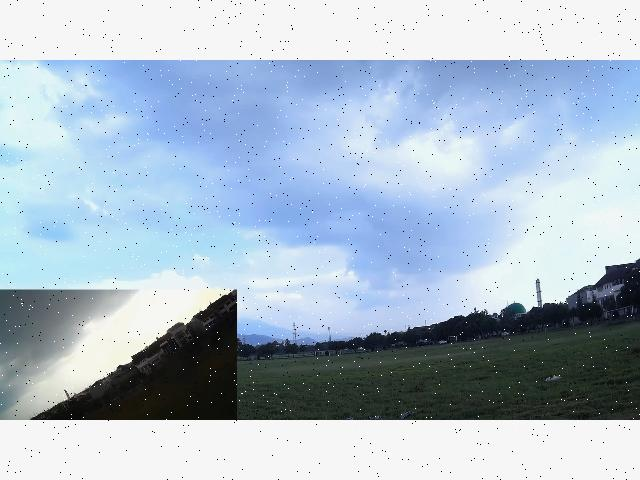Anti-Drone: (330, 293, 346, 302)
